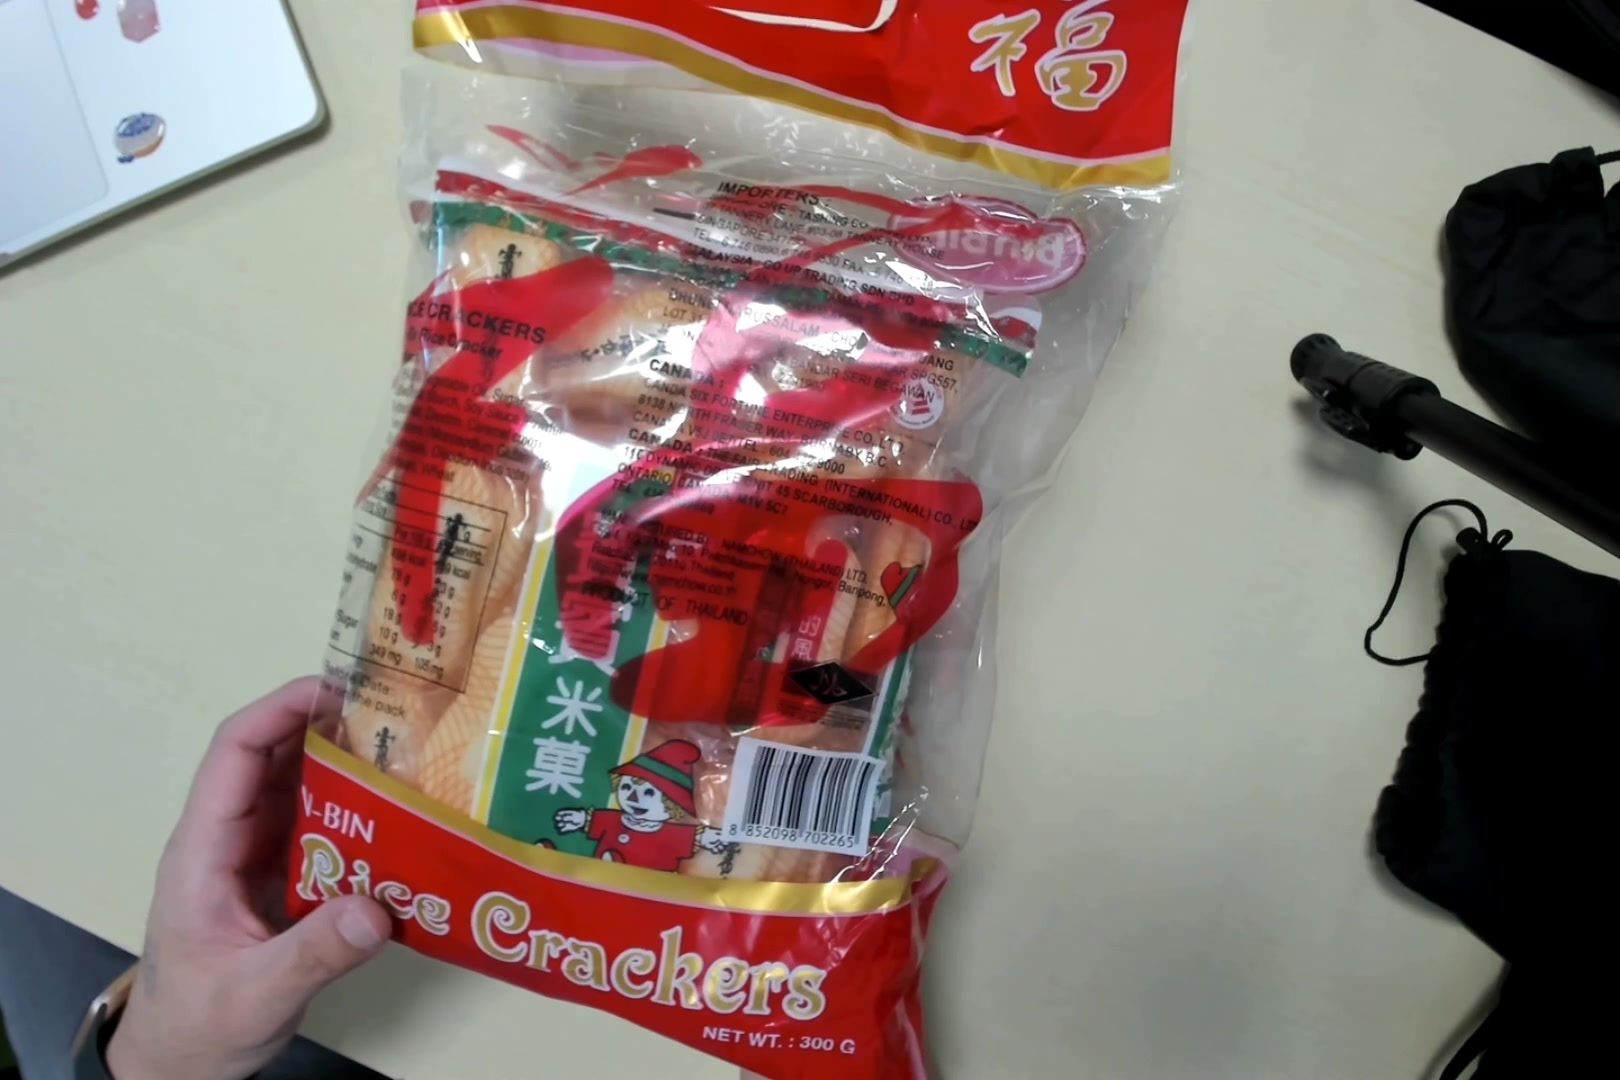PotatoChipsKeropok_300-399g_NonHalal_NonHealthy: (293, 4, 1176, 1080)
